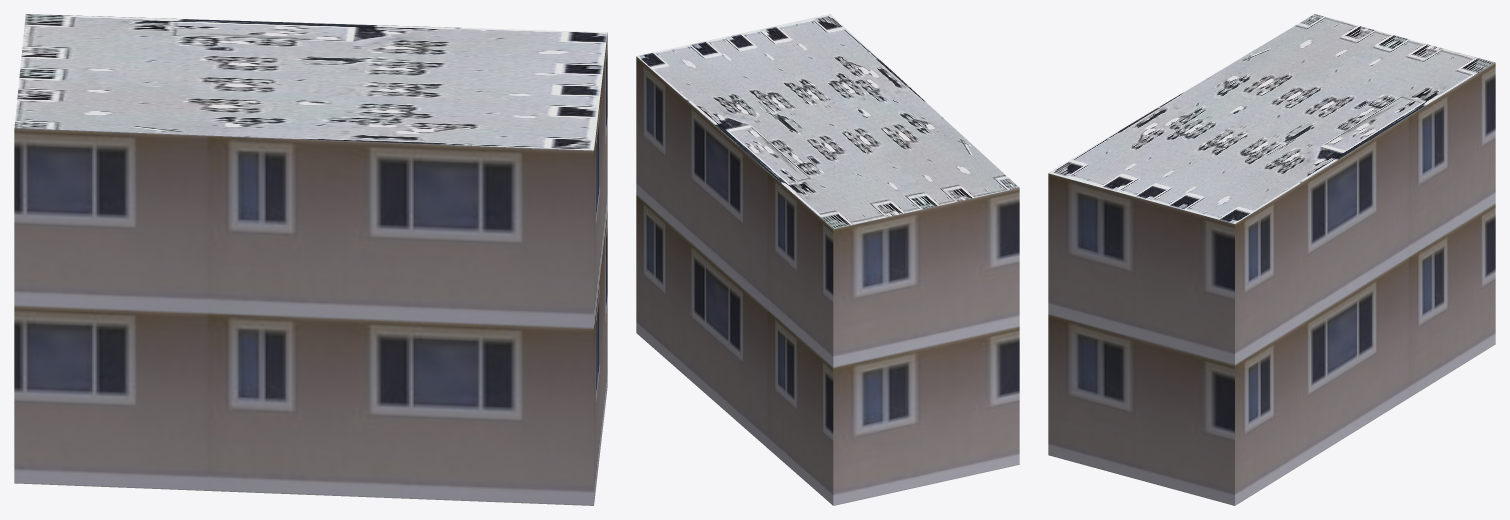
Rendered from ResTex__3832.fbx.
3 views of the same model, side by side, from view 1: azimuth 30°, elevation 25°; view 2: azimuth 150°, elevation 25°; view 3: azimuth 270°, elevation 25° (orthographic). The views are drawn at different scales.
Visible parts, largest first — view 1: CityEngineMaterial_21_m, CityEngineMaterial_m; view 2: CityEngineMaterial_21_m, CityEngineMaterial_m; view 3: CityEngineMaterial_21_m, CityEngineMaterial_m.
Boxes of the visible parts, x1,y1,x2,y2 form: CityEngineMaterial_21_m: (14, 33, 607, 505); CityEngineMaterial_m: (14, 14, 607, 150); CityEngineMaterial_21_m: (636, 56, 1019, 505); CityEngineMaterial_m: (636, 14, 1019, 228); CityEngineMaterial_21_m: (1048, 62, 1495, 505); CityEngineMaterial_m: (1049, 14, 1495, 223).
Size of the model in its own units: 9.59 by 6 by 8.63.
2 materials, 2 textured.
